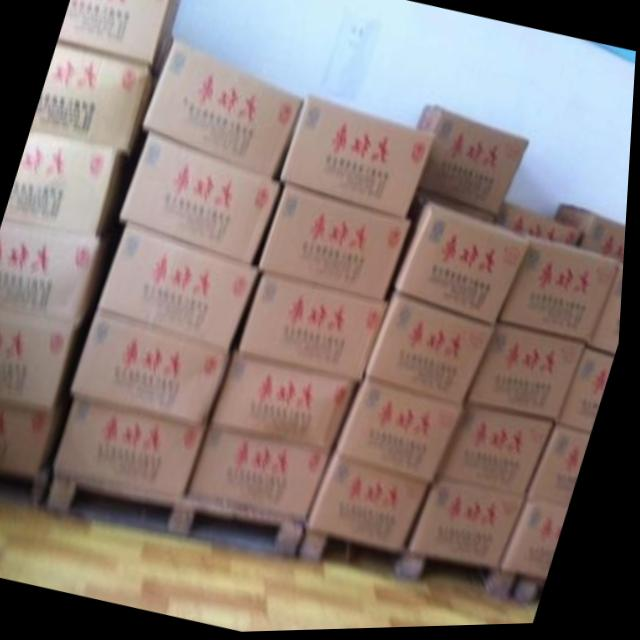box: (143, 35, 305, 178), (99, 221, 261, 356), (121, 133, 282, 266), (281, 94, 438, 221), (73, 311, 235, 425), (262, 186, 412, 304), (396, 203, 532, 327), (241, 274, 391, 386), (56, 399, 210, 499), (368, 292, 501, 407), (215, 353, 361, 452), (32, 44, 155, 158), (339, 376, 469, 483), (194, 429, 338, 522), (502, 234, 622, 345), (6, 128, 128, 234), (0, 216, 112, 328), (418, 107, 530, 217), (471, 326, 592, 426), (314, 455, 434, 554), (414, 482, 533, 574), (439, 407, 558, 495), (57, 0, 181, 83), (0, 310, 84, 409), (505, 503, 574, 585), (533, 427, 596, 511), (0, 398, 66, 475), (564, 350, 619, 435), (555, 206, 629, 267), (499, 206, 585, 251), (409, 188, 499, 226), (591, 265, 627, 357)
